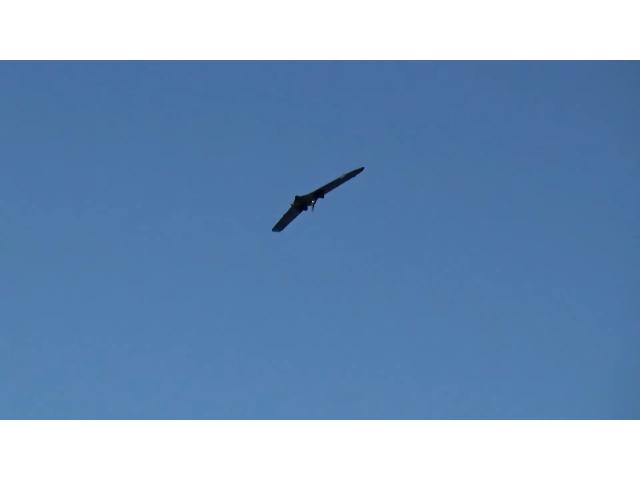Anti-Drone: (245, 158, 383, 244)
